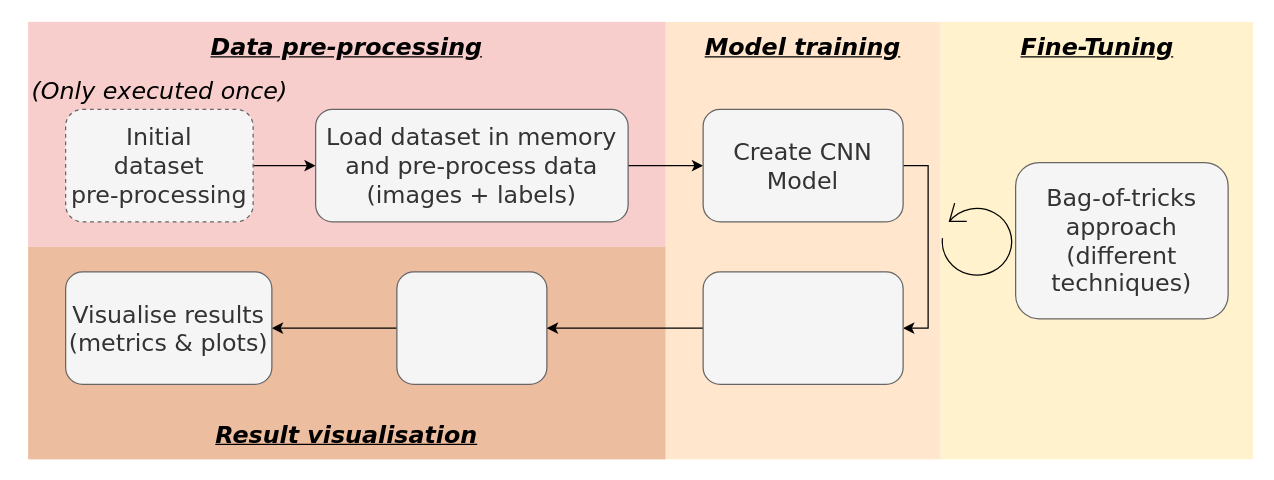
Some shapes in this 1274 by 480 pixel diagram are drawn without their labels. The box of each missing label's shape, as (x1, y1, x2, y2) in pixels:
Fit Data: (702, 271, 903, 384)
Make predictions: (396, 271, 547, 384)
